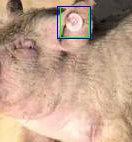text: (60, 6, 89, 37)
